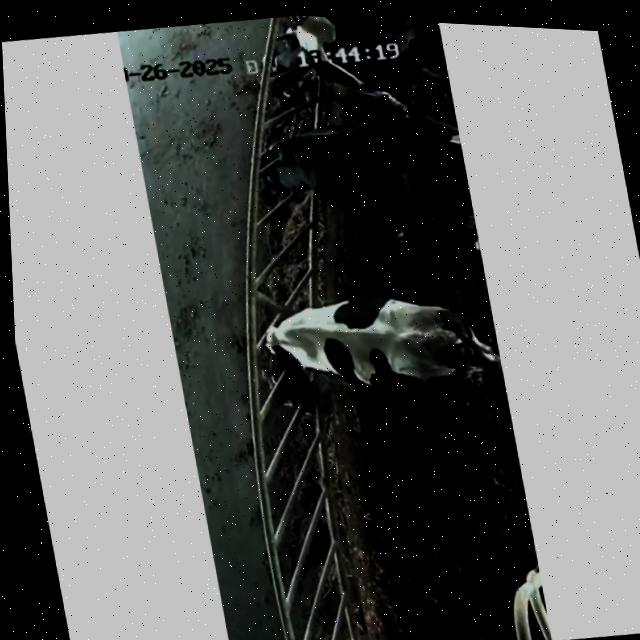eat: (206, 105, 377, 236), (201, 279, 369, 395), (217, 11, 388, 108)
